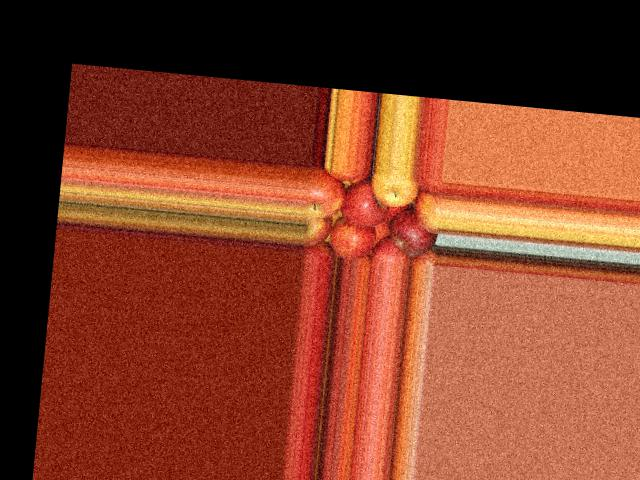apple: (327, 215, 380, 259)
